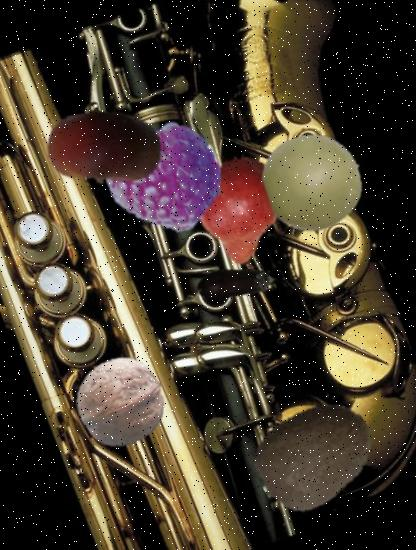Eggplant: (184, 230, 290, 336)
Grape: (250, 118, 377, 245)
Kiwi: (237, 378, 392, 532)
Nectarine: (31, 73, 178, 220)
Pear: (166, 139, 316, 289)
Raspberry: (96, 106, 236, 247)
Walnut: (64, 344, 178, 458)
